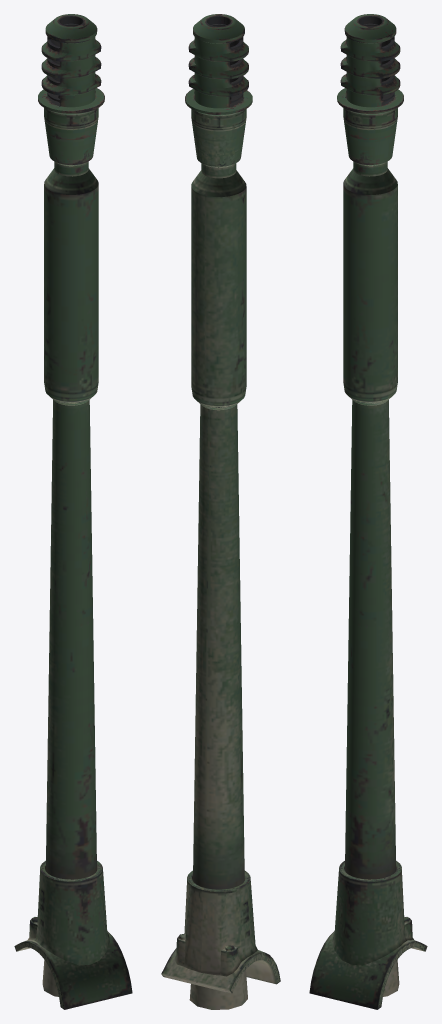
Rendered from Gun_01.glb.
The picture shows the model from 3 angles, left to right: view 1: azimuth 30°, elevation 25°; view 2: azimuth 150°, elevation 25°; view 3: azimuth 330°, elevation 25°; orthographic projection.
Parts seen in each view (by area): view 1: set_0_group_0; view 2: set_0_group_0; view 3: set_0_group_0.
Boxes of the visible parts, box(x1,y1,x2,y2) form: set_0_group_0: box(14, 14, 132, 1009); set_0_group_0: box(161, 14, 280, 1009); set_0_group_0: box(309, 14, 427, 1009).
Bounding box in the file's own units: 0.3337 × 4.51 × 0.4242.
Materials: 1 (1 with a texture image).
